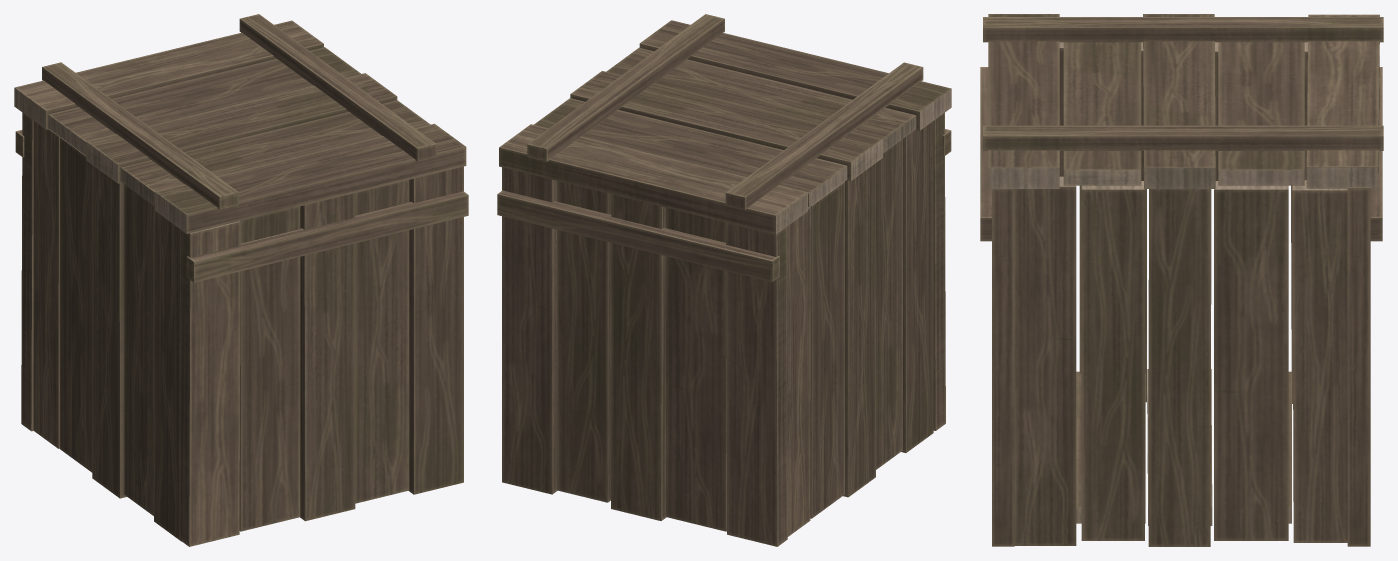
The model's file is SM_crate_01.fbx.
3 views of the same model, side by side, from view 1: azimuth 30°, elevation 25°; view 2: azimuth 150°, elevation 25°; view 3: azimuth 270°, elevation 25° (orthographic). The views are drawn at different scales.
Parts seen in each view (by area): view 1: Object079; view 2: Object079; view 3: Object079.
Part boxes in pixels (bbox=[...]): Object079: bbox=[14, 14, 468, 546]; Object079: bbox=[497, 14, 951, 546]; Object079: bbox=[980, 14, 1383, 546].
Bounding box in the file's own units: 29.3 × 34.94 × 32.47.
